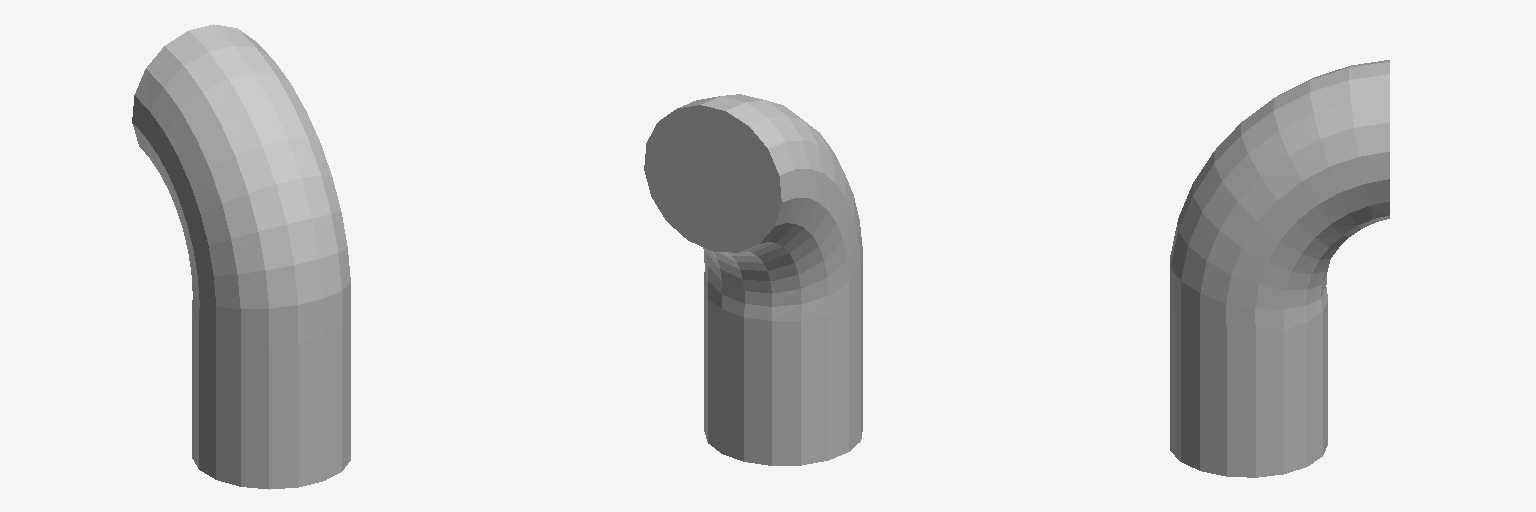
File: PipesCorner.obj
3 renders of one model, left to right at view 1: azimuth 30°, elevation 25°; view 2: azimuth 150°, elevation 25°; view 3: azimuth 270°, elevation 25°, orthographic.
Parts seen in each view (by area): view 1: PipeCurve_Cylinder.013; view 2: PipeCurve_Cylinder.013; view 3: PipeCurve_Cylinder.013.
Part boxes in pixels (x1,y1,x2,y2): PipeCurve_Cylinder.013: (132, 24, 350, 489); PipeCurve_Cylinder.013: (644, 94, 862, 465); PipeCurve_Cylinder.013: (1170, 60, 1389, 477).
Size of the model in its own units: 0.9957 by 2.6 by 1.38.